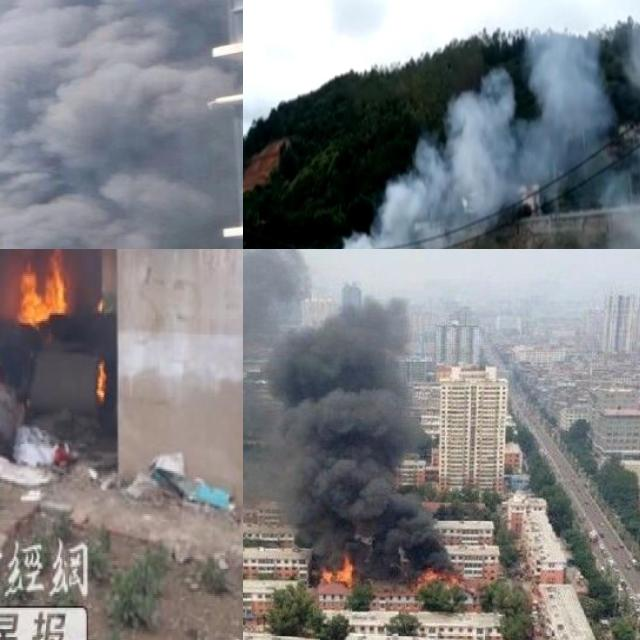fire: (14, 249, 69, 325), (318, 554, 354, 587), (411, 566, 455, 587), (94, 356, 108, 399)
smoke: (280, 0, 640, 249), (243, 249, 441, 573), (0, 0, 243, 249)
